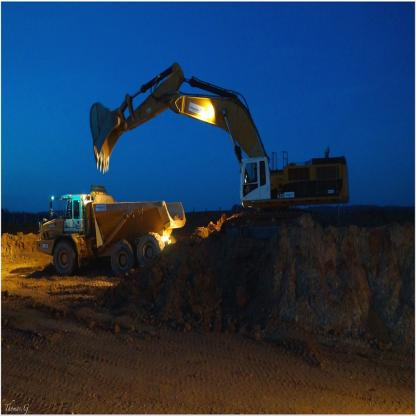dump_truck: (36, 182, 186, 290)
excavator: (85, 58, 355, 240)
